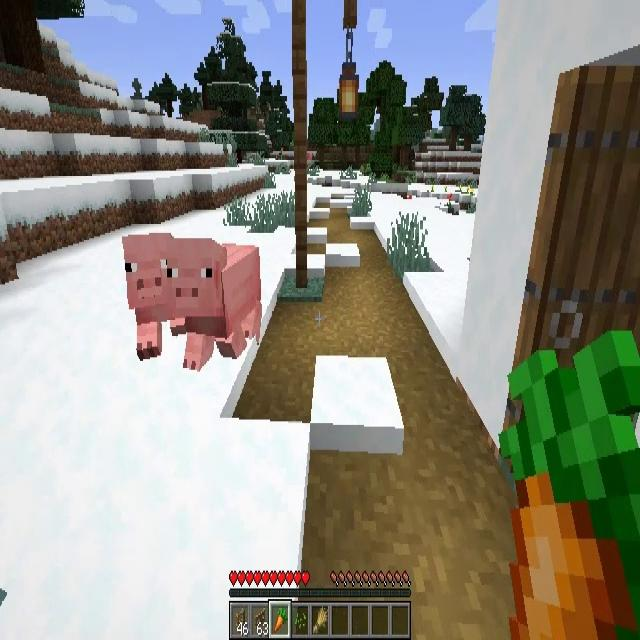pig: (169, 238, 259, 372), (121, 236, 186, 362)
